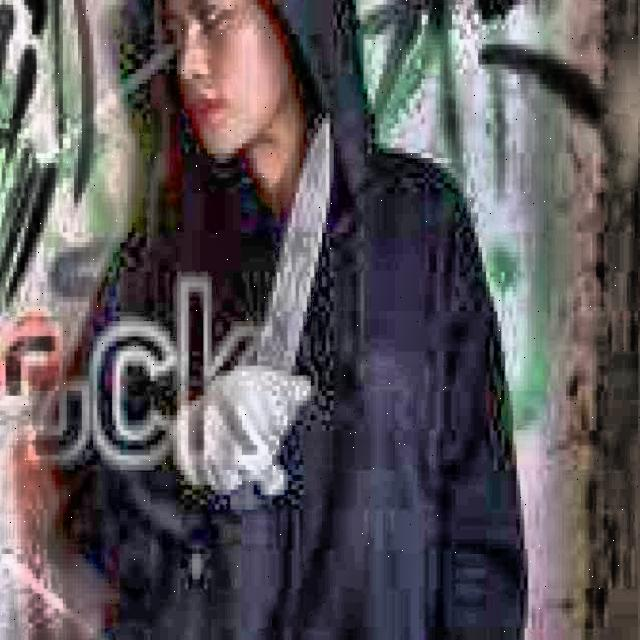knife: (229, 119, 329, 505)
